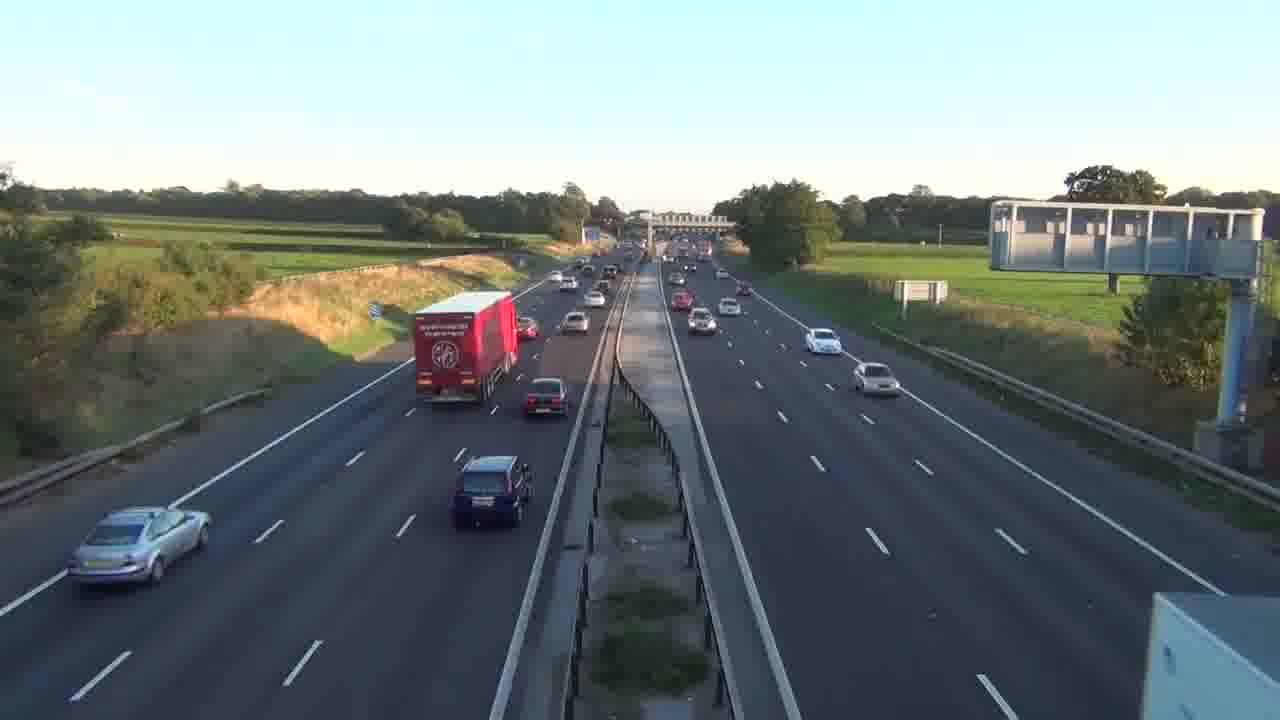car: (67, 506, 211, 588), (450, 454, 533, 529), (521, 377, 566, 419), (851, 361, 902, 397), (807, 327, 843, 356), (558, 310, 589, 335), (719, 297, 741, 315)
truck: (414, 289, 519, 402)
